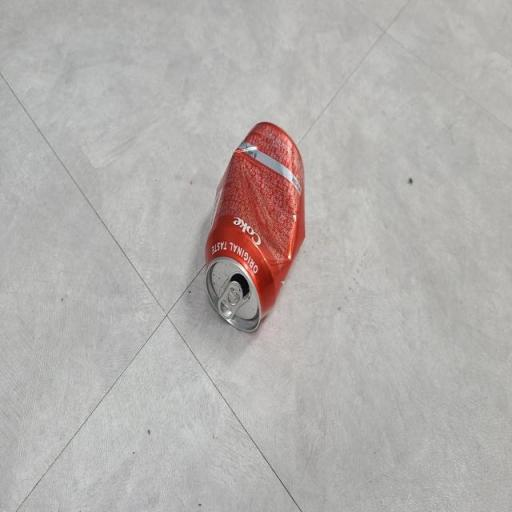metal: (194, 110, 320, 352)
